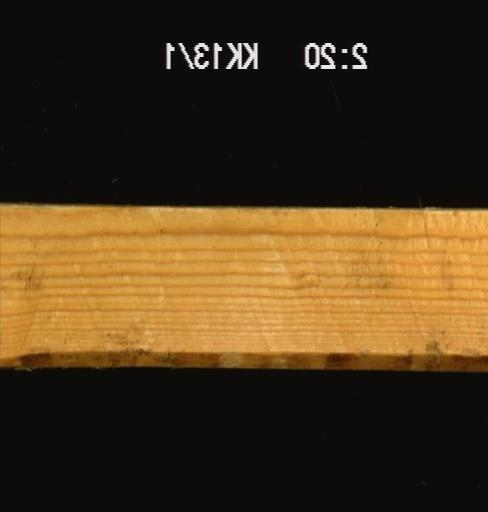wave: (1, 345, 486, 373)
